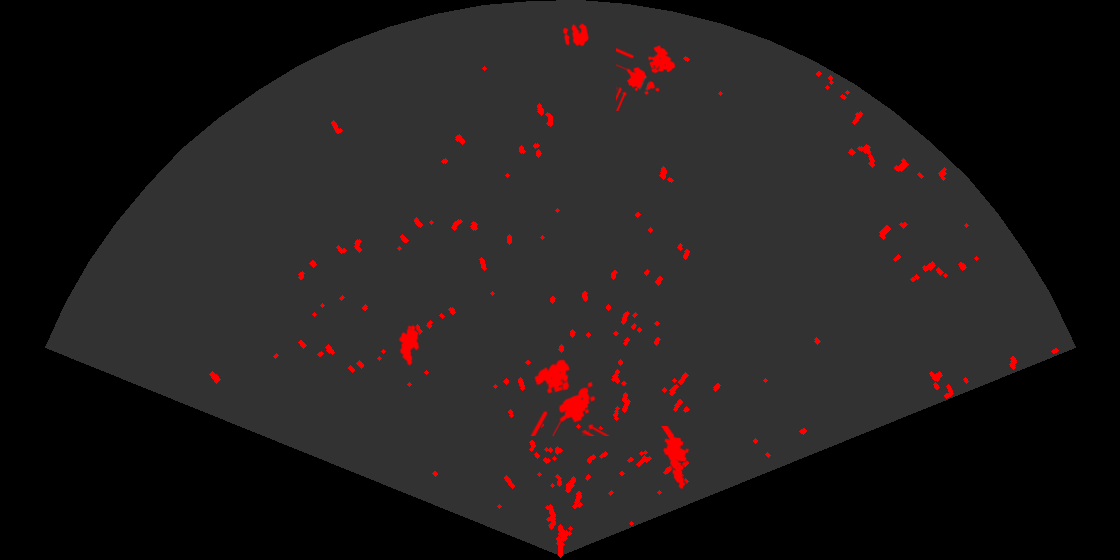AUV: (397, 323, 421, 368)
ball: (561, 21, 590, 48)
cage: (528, 358, 612, 436), (616, 43, 677, 111)
frogman: (660, 426, 691, 491)
